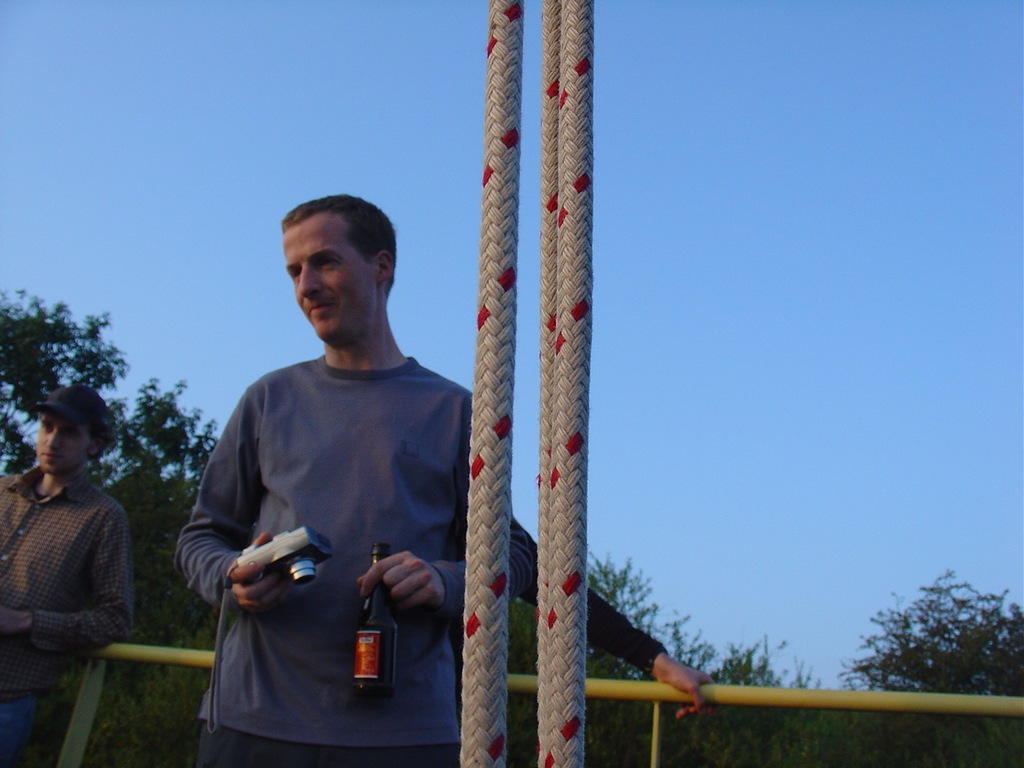Human_hand: (225, 530, 294, 614), (356, 550, 446, 610), (655, 658, 718, 722), (0, 604, 26, 640)
